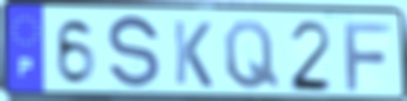2: (287, 18, 332, 94)
6: (53, 18, 99, 87)
F: (341, 19, 394, 93)
K: (171, 18, 215, 91)
Q: (221, 18, 282, 92)
S: (106, 13, 163, 94)
